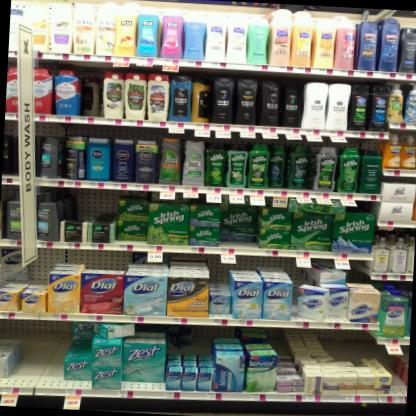empty_space: (20, 320, 65, 389), (77, 61, 107, 117), (414, 131, 416, 170)
